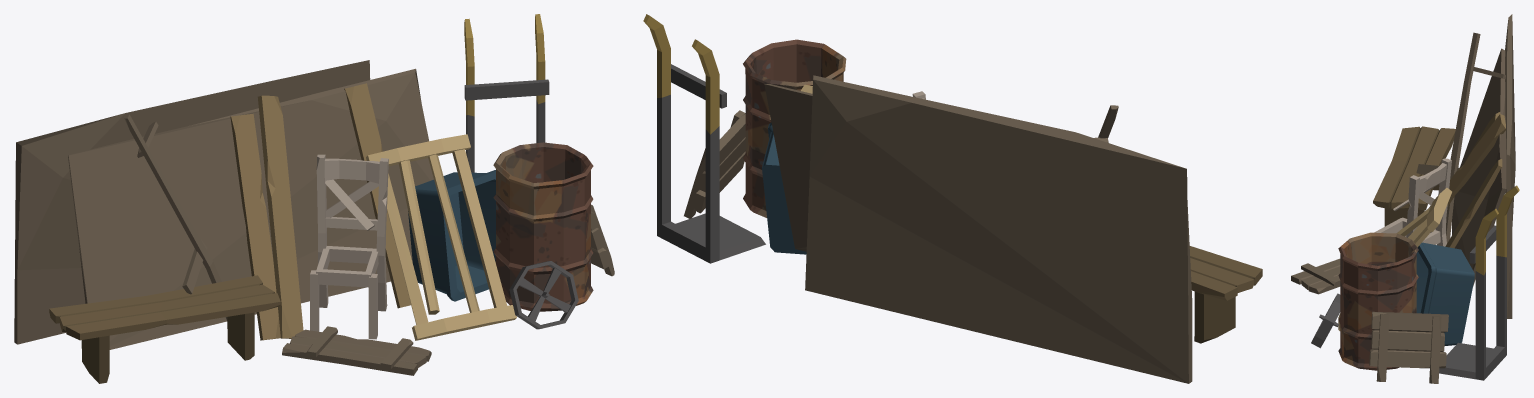
File: SM_Prop_Rubbish_Pile_01.glb
The picture shows the model from 3 angles, left to right: view 1: azimuth 30°, elevation 25°; view 2: azimuth 150°, elevation 25°; view 3: azimuth 270°, elevation 25°; orthographic projection. The views are drawn at different scales.
Visible parts, largest first — view 1: SM_Prop_Rubbish_Pile_01; view 2: SM_Prop_Rubbish_Pile_01; view 3: SM_Prop_Rubbish_Pile_01.
Part boxes in pixels (x1,y1,x2,y2): SM_Prop_Rubbish_Pile_01: [14, 14, 614, 383]; SM_Prop_Rubbish_Pile_01: [643, 14, 1262, 383]; SM_Prop_Rubbish_Pile_01: [1291, 14, 1519, 383].
Size of the model in its own units: 4.4 by 1.8 by 2.03.
Materials: 1 (1 with a texture image).
